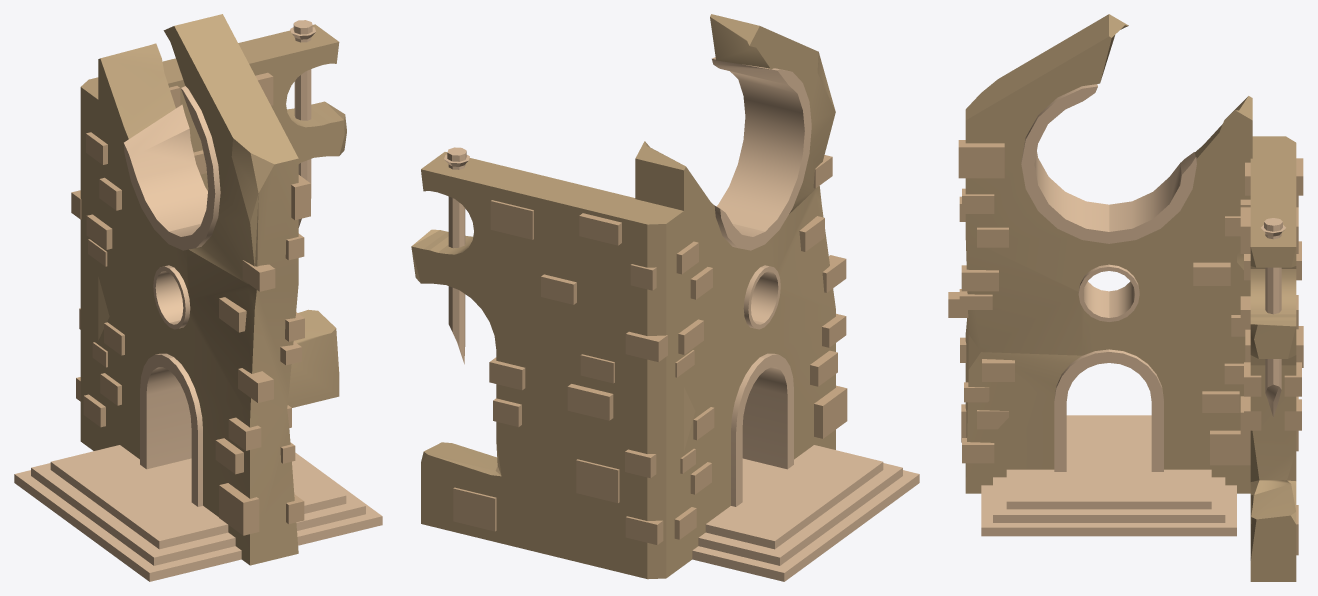
The model's file is Ruin 3.fbx.
3 renders of one model, left to right at view 1: azimuth 30°, elevation 25°; view 2: azimuth 150°, elevation 25°; view 3: azimuth 270°, elevation 25°, orthographic. The views are drawn at different scales.
Visible parts, largest first — view 1: Cube.077; view 2: Cube.077; view 3: Cube.077.
Boxes of the visible parts, x1,y1,x2,y2 form: Cube.077: (14,14,382,581); Cube.077: (411,14,919,581); Cube.077: (948,14,1303,581).
Size of the model in its own units: 621 by 841 by 592.
